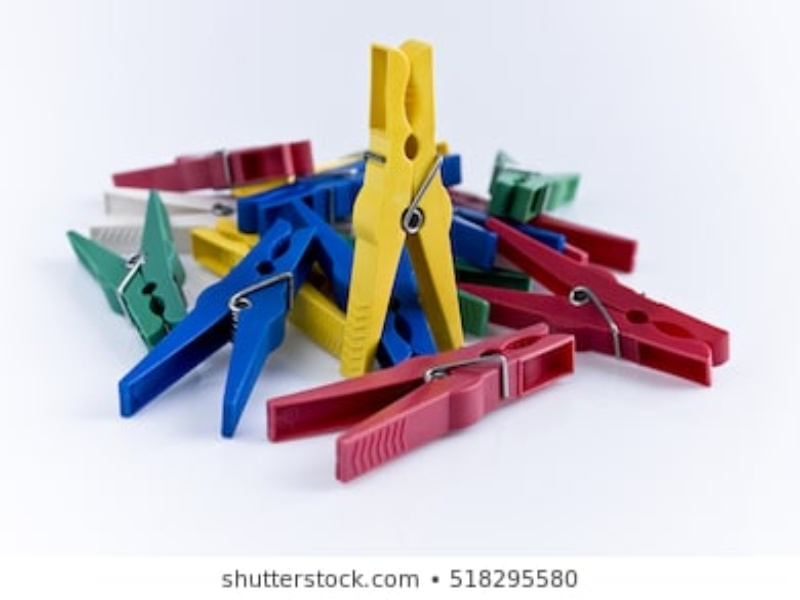plastic-peg: (264, 319, 580, 483), (452, 215, 732, 385), (335, 36, 470, 374), (116, 216, 318, 437), (67, 187, 189, 345), (115, 139, 314, 197), (484, 143, 586, 216)
